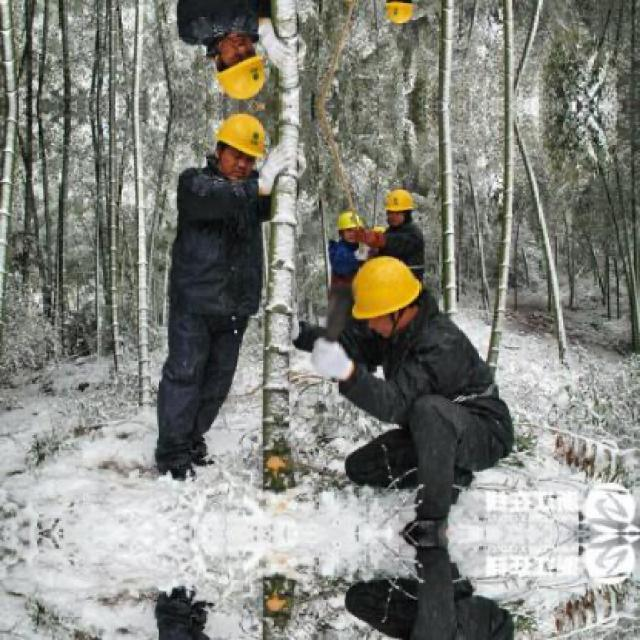helmet: (351, 253, 426, 339), (211, 108, 271, 183), (211, 31, 271, 106), (384, 186, 418, 224), (383, 0, 419, 28), (337, 208, 365, 242)
